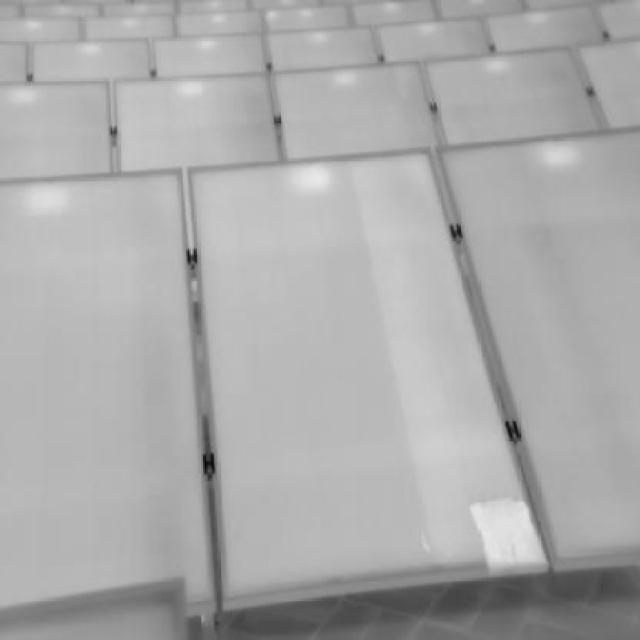hotspot: (461, 498, 547, 572), (280, 169, 334, 196), (536, 139, 573, 172)
